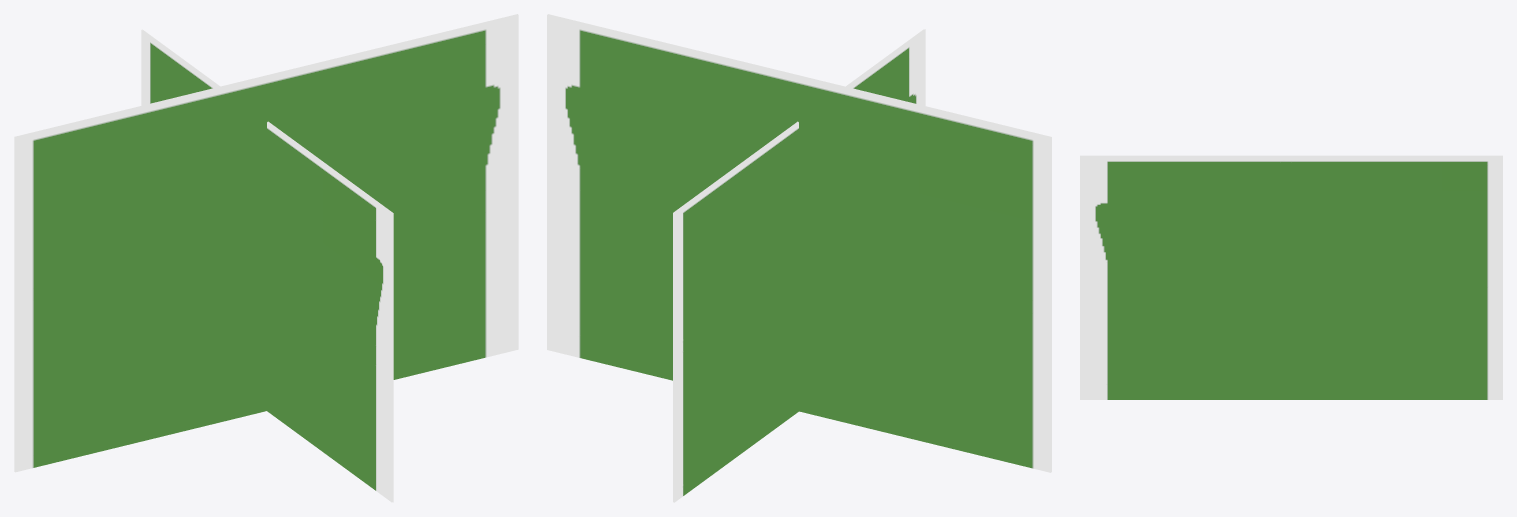
Rendered from Grass_08-2.glb.
The picture shows the model from 3 angles, left to right: view 1: azimuth 30°, elevation 25°; view 2: azimuth 150°, elevation 25°; view 3: azimuth 270°, elevation 25°; orthographic projection. The views are drawn at different scales.
Visible parts, largest first — view 1: Grass_08-2_LOD0; view 2: Grass_08-2_LOD0; view 3: Grass_08-2_LOD0.
Boxes of the visible parts, box(x1,y1,x2,y2) form: Grass_08-2_LOD0: box(14, 14, 518, 502); Grass_08-2_LOD0: box(547, 14, 1051, 502); Grass_08-2_LOD0: box(1080, 155, 1502, 399).
Size of what is drawn, in the model's own units: 0.2795 by 0.1778 by 0.2416.
1 material, 1 textured.
